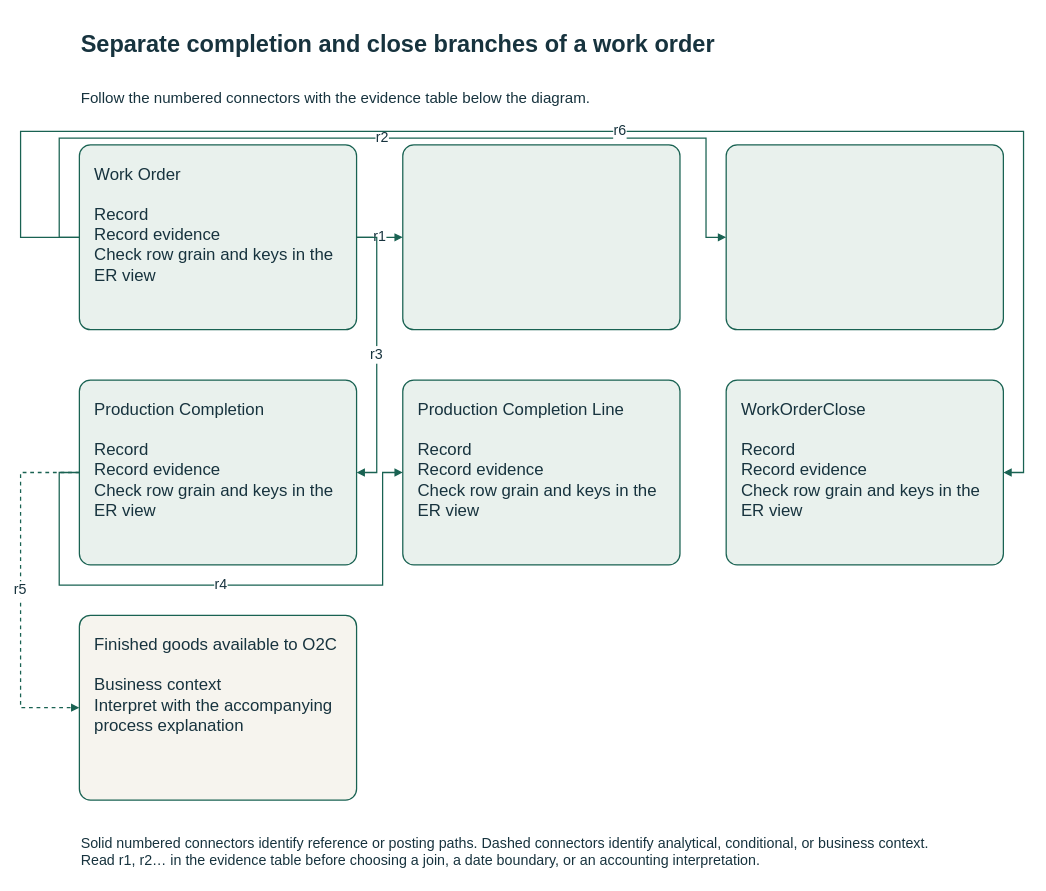
Some shapes in this 1046 by 891 pixel diagram are drawn without their labels. Here are the shapes that lost their labels. From the top down, the centre of each, then its label:
the point at 541,237: Material Issue Record Record evidence Check row grain and keys in the ER view
the point at 864,237: Labor Time Entry Record Record evidence Check row grain and keys in the ER view
